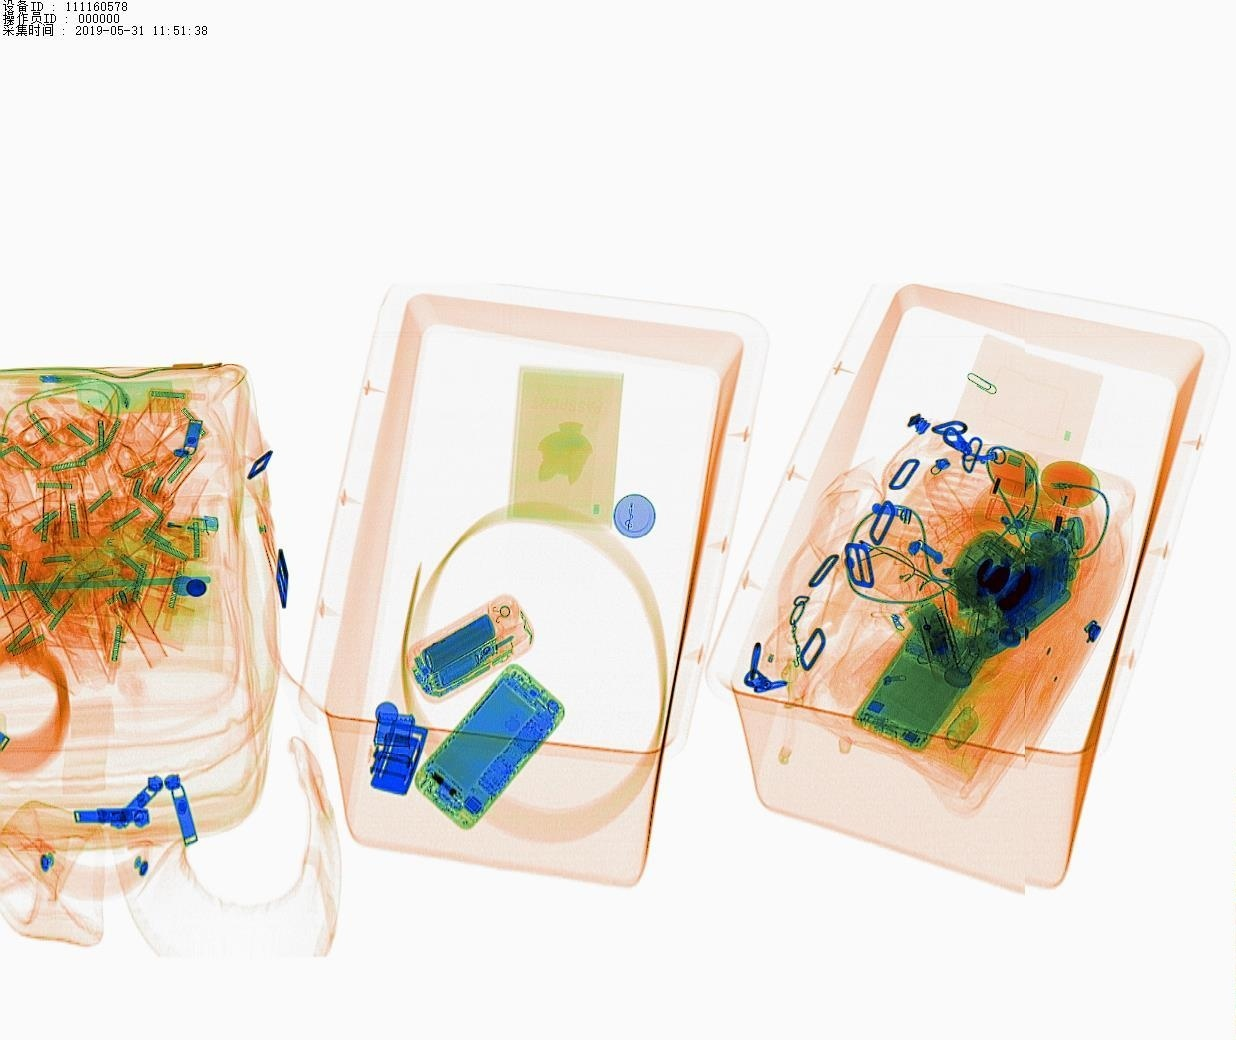NonmetallicFire: (129, 497, 234, 541)
